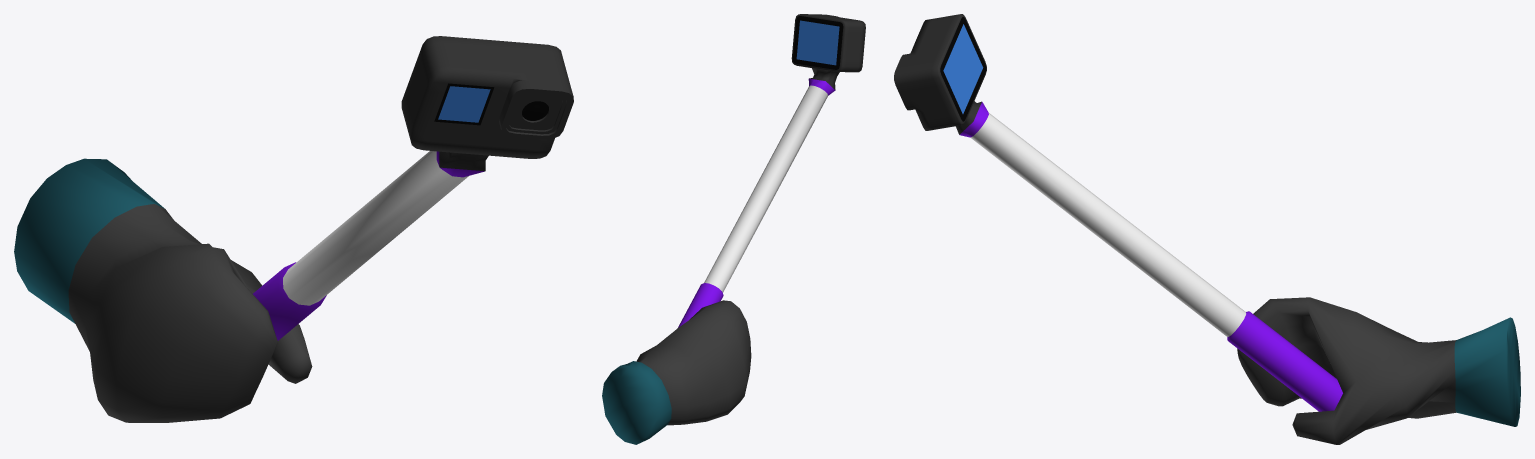
Rendered from Snorkeller_RightArm.fbx.
3 views of the same model, side by side, from view 1: azimuth 30°, elevation 25°; view 2: azimuth 150°, elevation 25°; view 3: azimuth 270°, elevation 25° (orthographic). The views are drawn at different scales.
Parts seen in each view (by area): view 1: RightArm, GoPro; view 2: RightArm, GoPro; view 3: RightArm, GoPro.
Part boxes in pixels (x1=…): RightArm: x1=14, y1=158, x2=312, y2=422; GoPro: x1=253, y1=36, x2=573, y2=340; RightArm: x1=602, y1=300, x2=751, y2=444; GoPro: x1=677, y1=14, x2=865, y2=328; RightArm: x1=1237, y1=297, x2=1520, y2=444; GoPro: x1=894, y1=14, x2=1342, y2=411.
Bounding box in the file's own units: 11.73 × 32.73 × 45.84.
